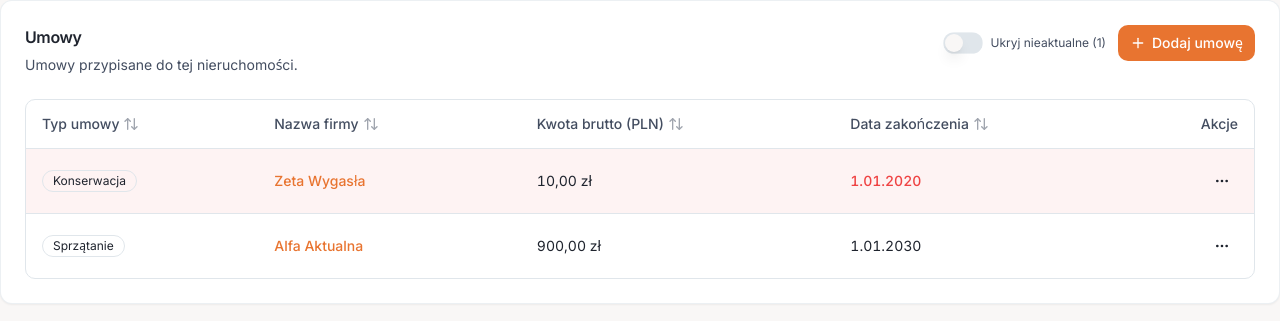
Scenario: PropertyContractsListCard › highlights expired contracts and can hide them
Check: the link "Zeta Wygasła" is shown, box [274,172,366,188]
Check: the link "Alfa Aktualna" is shown, box [274,236,363,254]
What coordinates should you click on to do the following:
click the switch named "Ukryj nieaktualne"
I would click on:
 (962, 43)
Its box is [943,32,982,54].
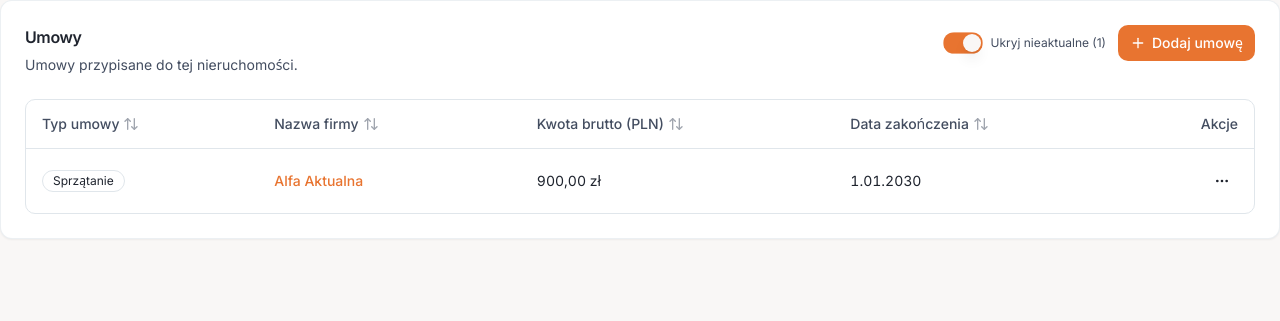
Check: the link "Alfa Aktualna" is shown, box [274,172,363,188]
Check: the link "Zeta Wygasła" is gone
